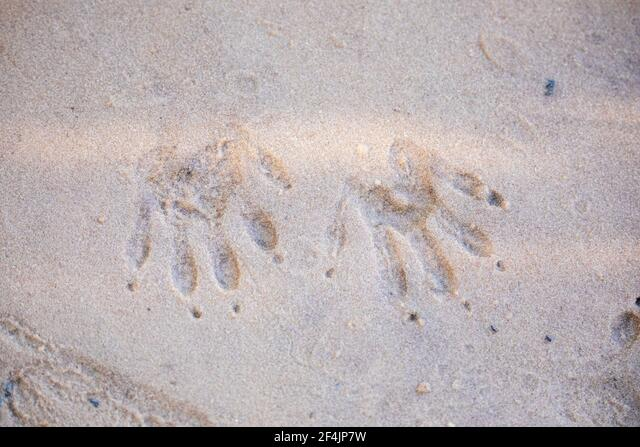raccoon: (113, 106, 295, 313), (319, 121, 513, 308)
